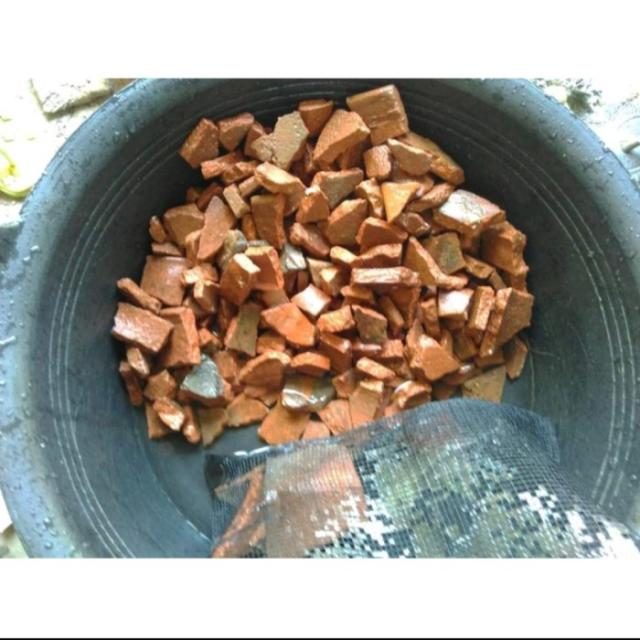Pecahan Agregat: (486, 222, 546, 361), (386, 121, 473, 185), (146, 296, 217, 372), (336, 80, 424, 138), (492, 279, 552, 360), (347, 259, 431, 314), (299, 375, 377, 430), (245, 143, 318, 201), (130, 255, 206, 308), (326, 304, 403, 356), (404, 334, 482, 384), (326, 199, 387, 262), (104, 304, 176, 356), (436, 188, 512, 237), (314, 104, 368, 170), (360, 160, 422, 217), (146, 202, 218, 250), (258, 298, 323, 348), (402, 228, 452, 292), (133, 375, 184, 435), (197, 196, 247, 256), (178, 112, 224, 177), (255, 396, 305, 455), (213, 254, 262, 312), (249, 192, 294, 255), (308, 157, 373, 199), (273, 106, 313, 174), (180, 352, 225, 412), (234, 355, 298, 396), (435, 282, 480, 340), (230, 300, 267, 358), (282, 344, 336, 383), (388, 373, 438, 411), (214, 112, 257, 151)
